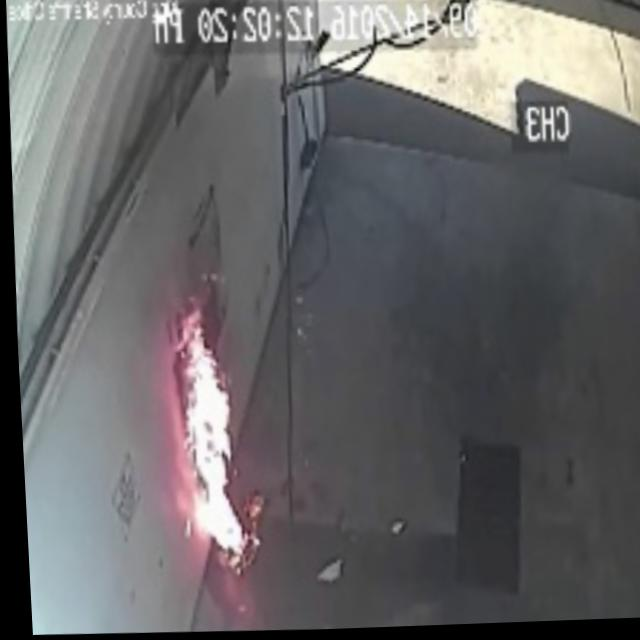fire: (159, 287, 270, 572)
